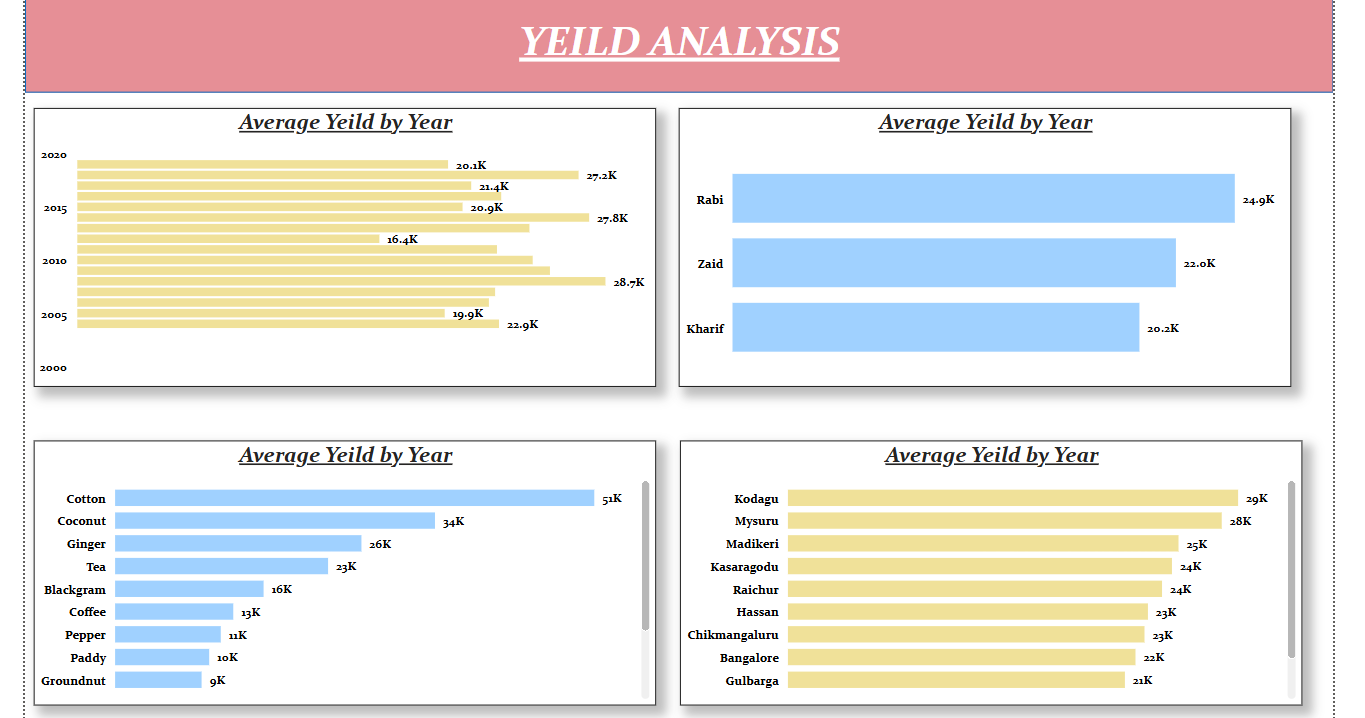

This screenshot's page, from the dashboard's own definition file:
{"tool":"powerbi","page":{"name":"Yeild Analysis","canvas":[1280,720],"ordinal":3},"visuals":[{"type":"shape","box":[0,0,1280.3,102.7],"z":0},{"type":"barChart","title":"Average Yeild by Year","fields":{"Category":["AGRICULTURE.YEAR"],"Y":["Sum(AGRICULTURE.YEILDS)"]},"box":[8.6,117.4,609,272.7],"z":1000},{"type":"barChart","title":"Average Yeild by Year","fields":{"Category":["AGRICULTURE.SEASON"],"Y":["Sum(AGRICULTURE.YEILDS)"]},"box":[639.5,117.4,599.2,272.7],"z":2000},{"type":"barChart","title":"Average Yeild by Year","fields":{"Category":["AGRICULTURE.CROPS"],"Y":["Sum(AGRICULTURE.YEILDS)"]},"box":[8.6,442.7,609,259.2],"z":3000},{"type":"barChart","title":"Average Yeild by Year","fields":{"Category":["AGRICULTURE.LOCATION"],"Y":["Sum(AGRICULTURE.YEILDS)"]},"box":[640.8,442.7,609,259.2],"z":4000}]}

Visuals, with their boxes on the page's 1280x720 design canvas (x1, y1, x2, y2). These are canvas units, not pixel positions in the 1365x718 screenshot, which may show the page scaled, cropped or inside an application window:
shape: left=0, top=0, right=1280, bottom=103
"Average Yeild by Year" barChart: left=9, top=117, right=618, bottom=390
"Average Yeild by Year" barChart: left=640, top=117, right=1239, bottom=390
"Average Yeild by Year" barChart: left=9, top=443, right=618, bottom=702
"Average Yeild by Year" barChart: left=641, top=443, right=1250, bottom=702
